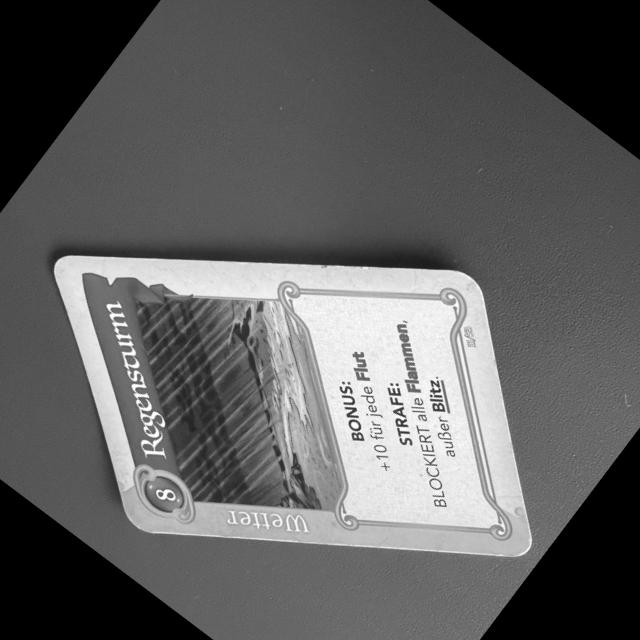Rainstorm: (42, 253, 526, 559)
